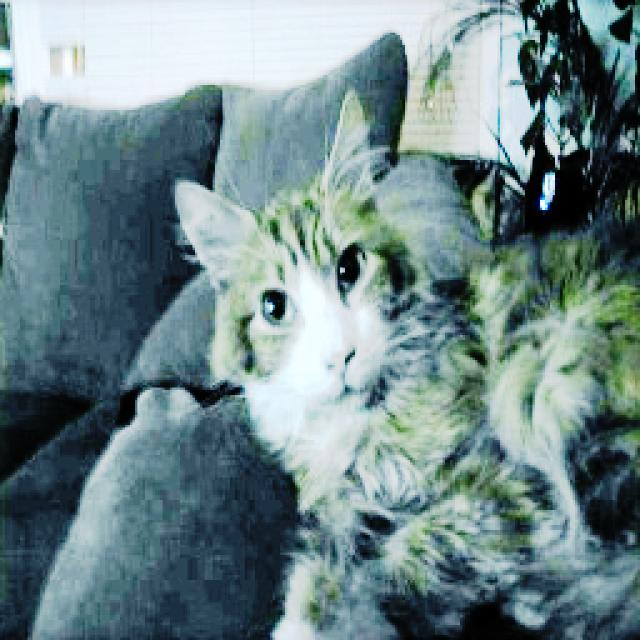cat: (132, 82, 640, 632)
